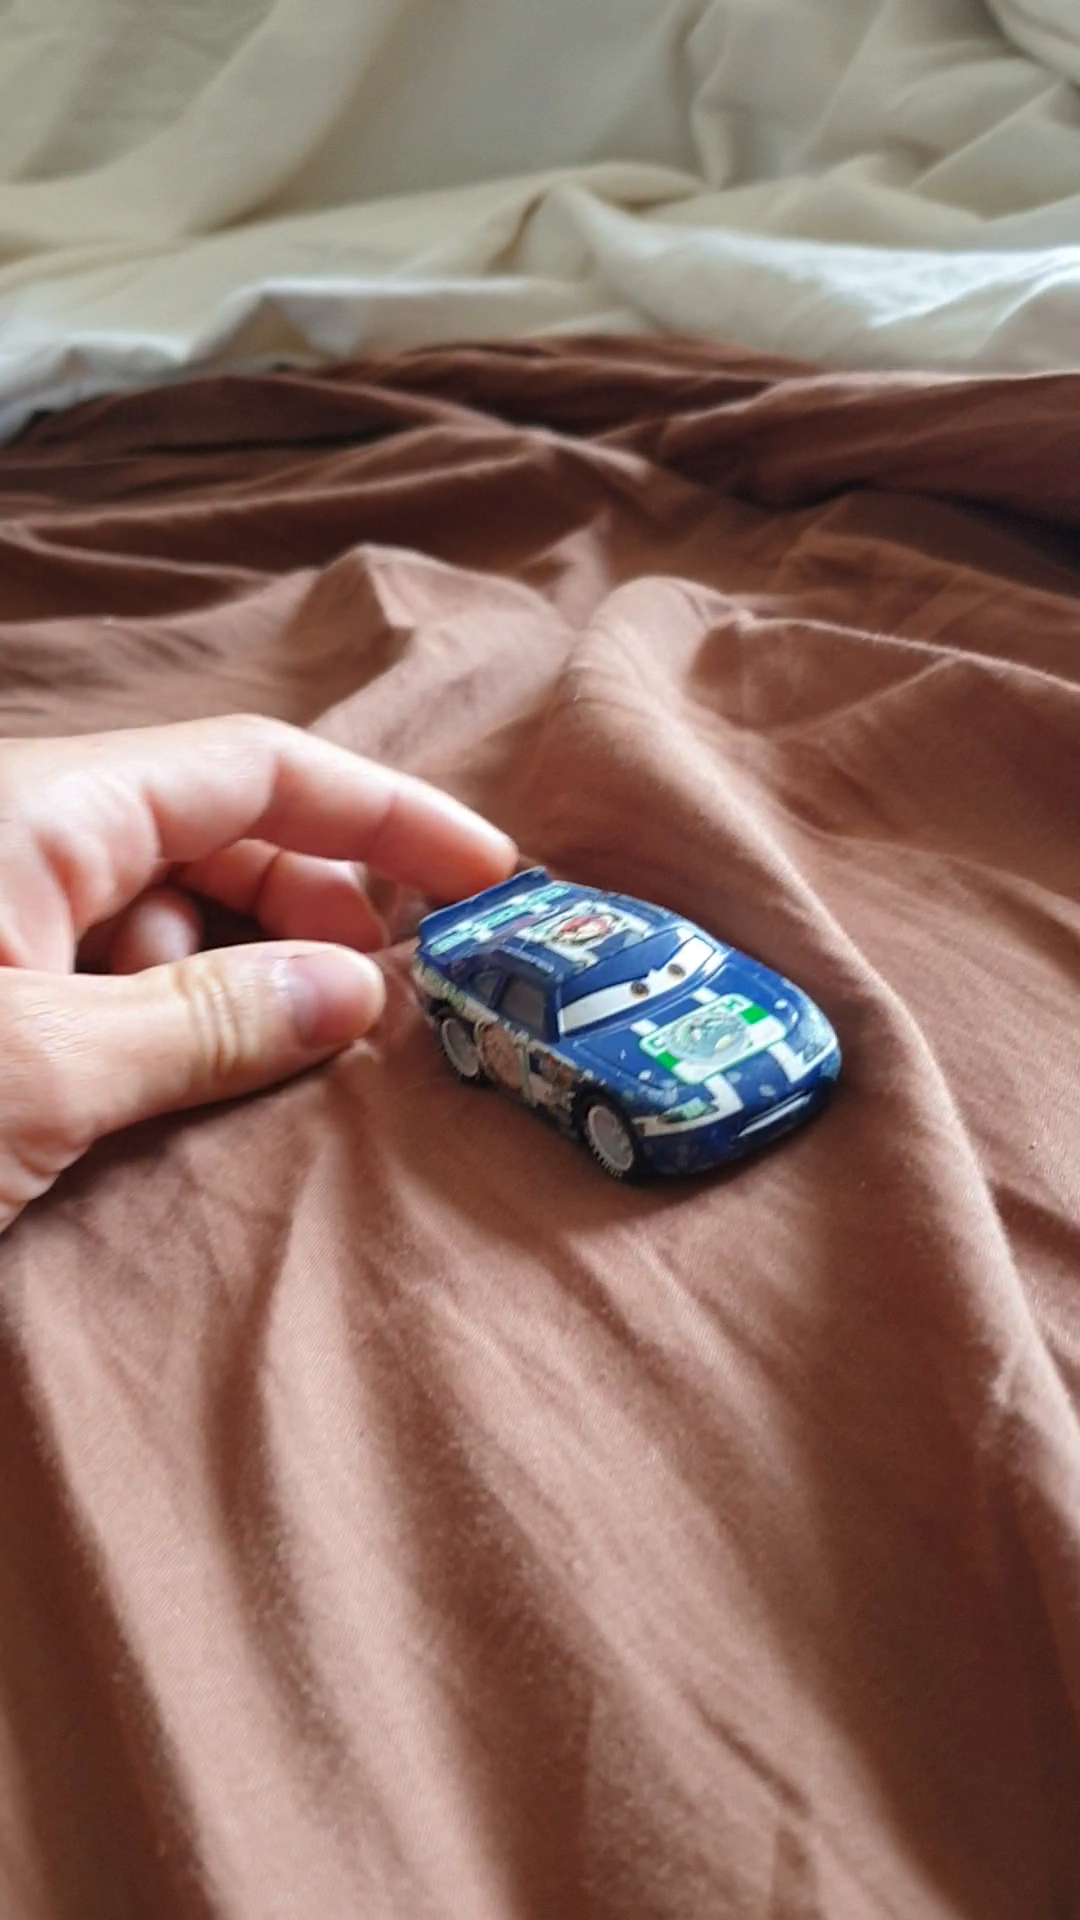cars: (398, 861, 853, 1187)
